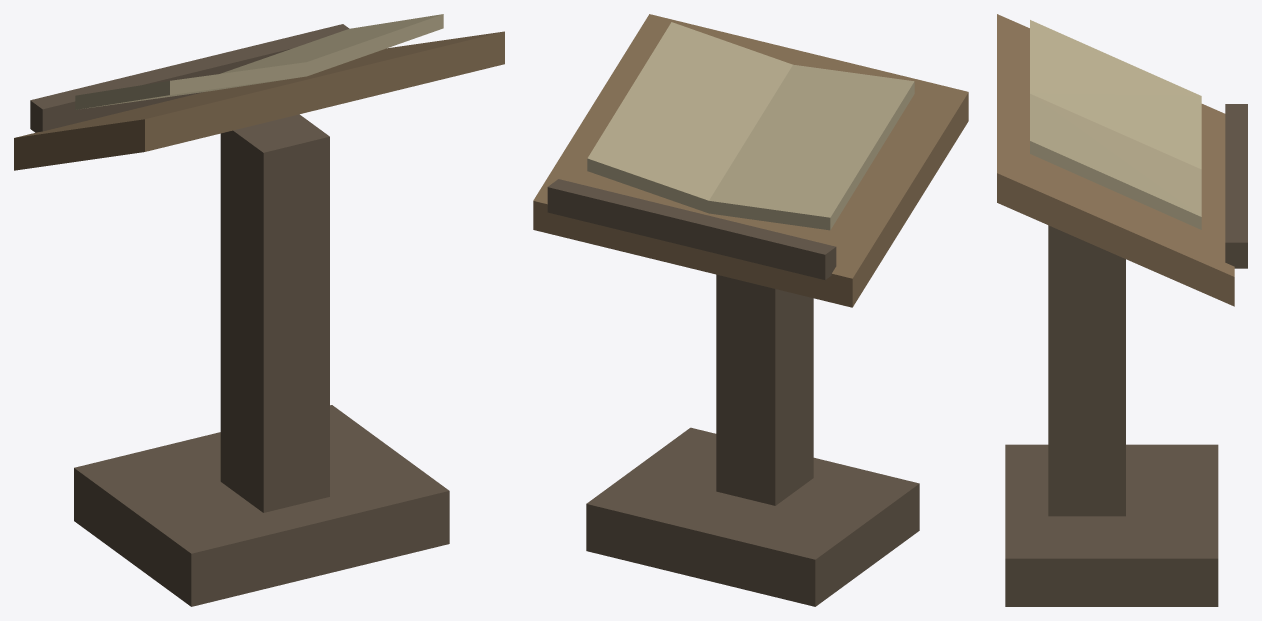
The model's file is DG_Lectern_ForgottenLedger.fbx.
The picture shows the model from 3 angles, left to right: view 1: azimuth 30°, elevation 25°; view 2: azimuth 150°, elevation 25°; view 3: azimuth 270°, elevation 25°; orthographic projection. The views are drawn at different scales.
Visible parts, largest first — view 1: DG_Lectern_ForgottenLedger; view 2: DG_Lectern_ForgottenLedger; view 3: DG_Lectern_ForgottenLedger.
Boxes of the visible parts, left/top/right/bottom form: DG_Lectern_ForgottenLedger: left=14, top=14, right=504, bottom=606; DG_Lectern_ForgottenLedger: left=533, top=14, right=968, bottom=606; DG_Lectern_ForgottenLedger: left=997, top=14, right=1247, bottom=606.
Bounding box in the file's own units: 0.92 × 1.27 × 0.6125.
